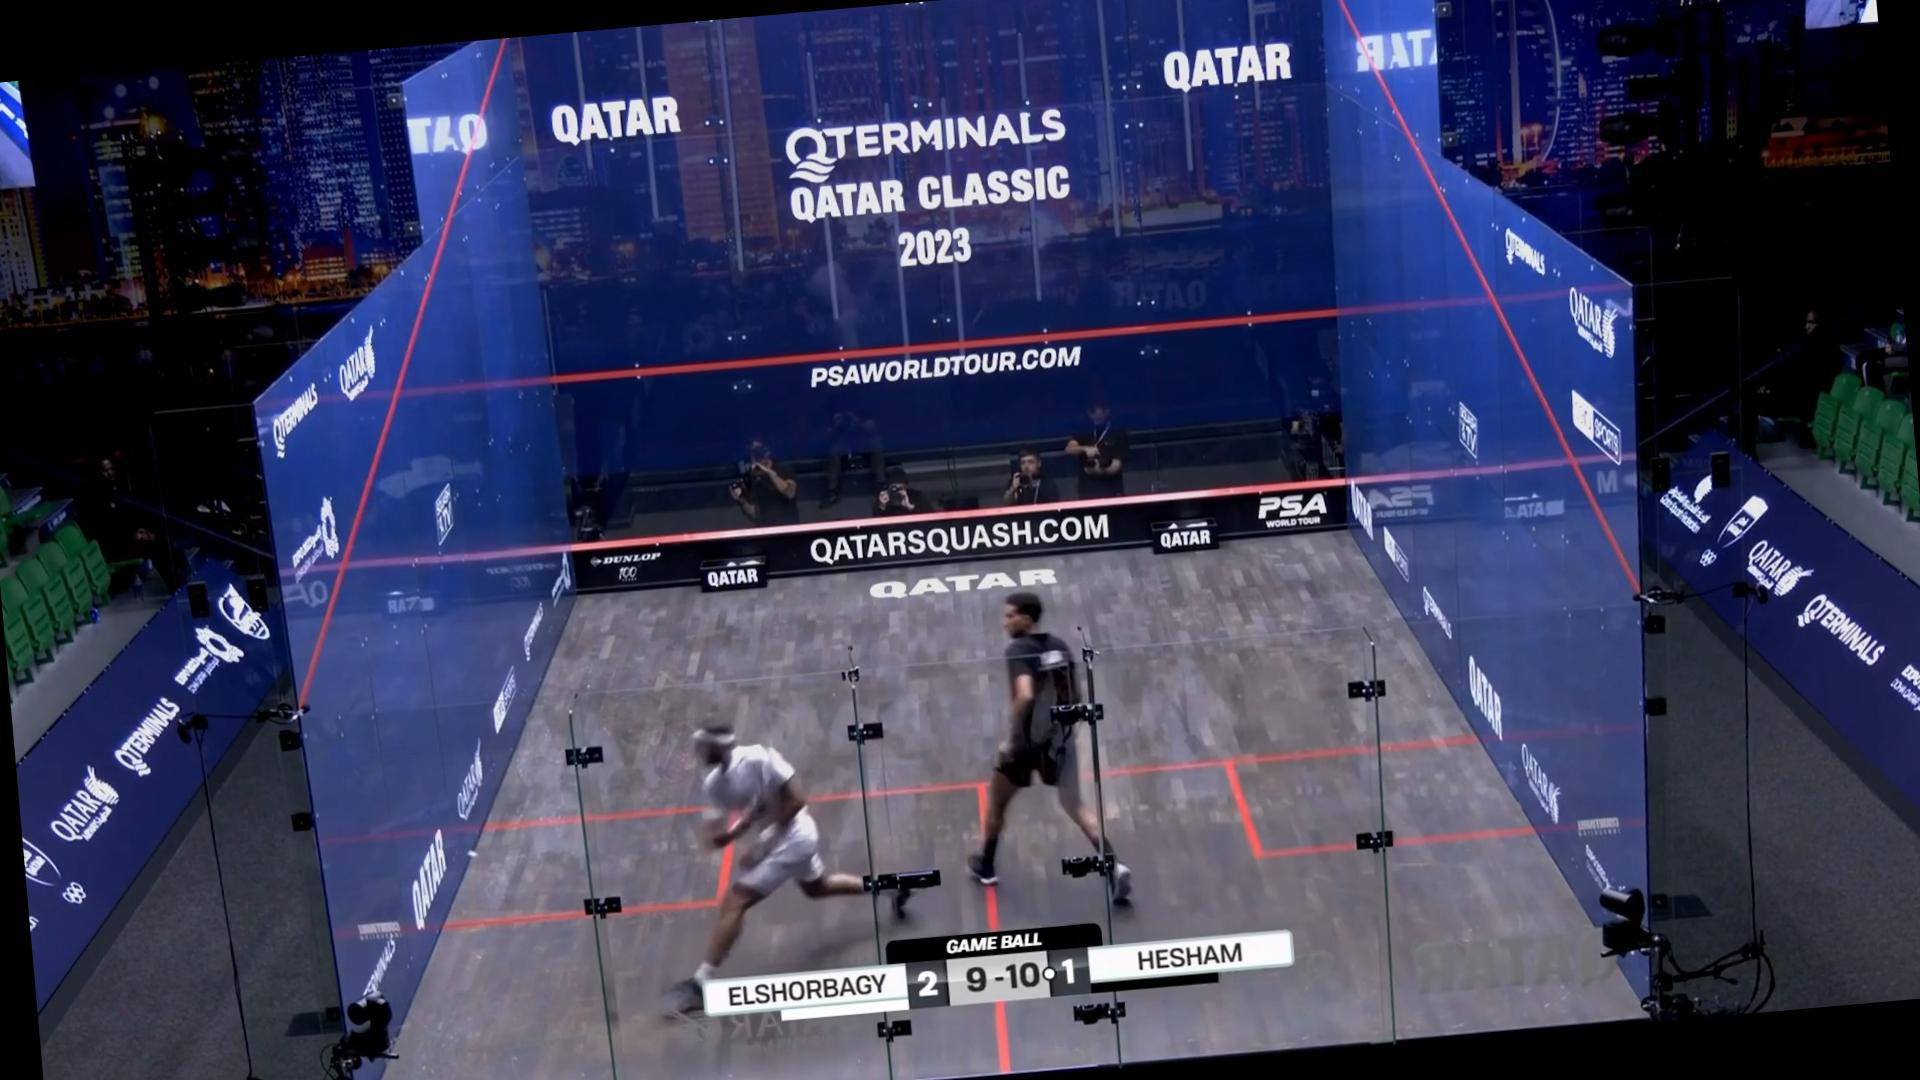Squash-Ball: (459, 839, 488, 869)
